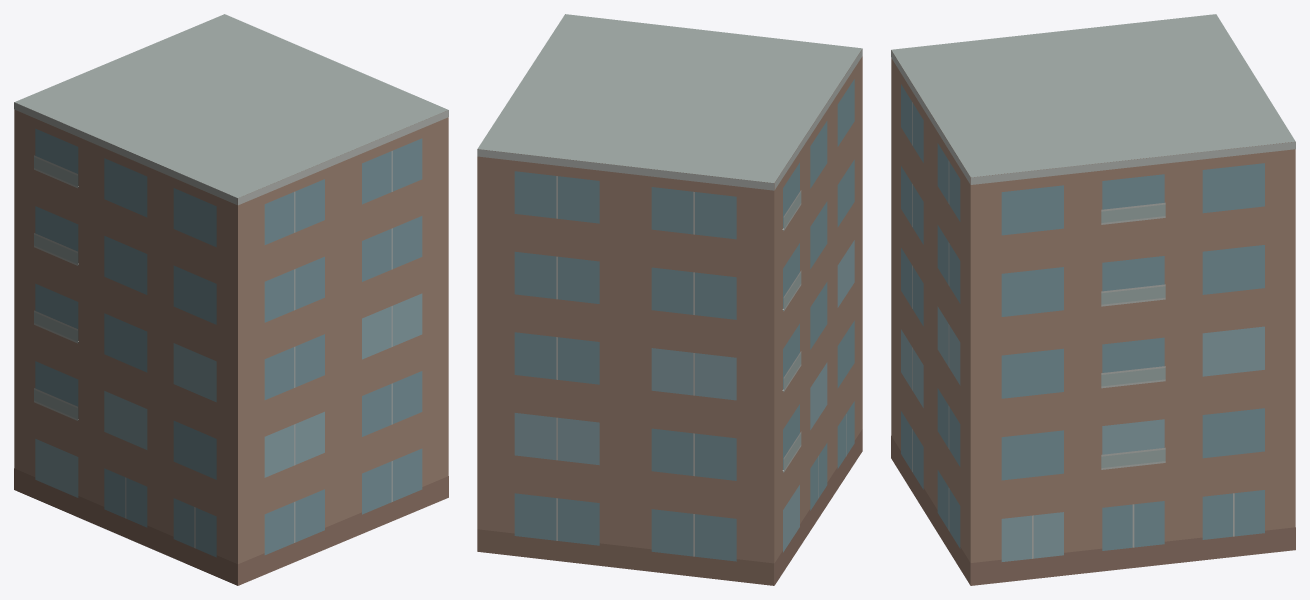
File: survey-upis-32653516.glb
3 views of the same model, side by side, from view 1: azimuth 30°, elevation 25°; view 2: azimuth 150°, elevation 25°; view 3: azimuth 270°, elevation 25° (orthographic). The views are drawn at different scales.
Visible parts, largest first — view 1: survey-upis-32653516.tmp; view 2: survey-upis-32653516.tmp; view 3: survey-upis-32653516.tmp.
Part boxes in pixels (left/top/right/bottom): survey-upis-32653516.tmp: left=14, top=14, right=448, bottom=585; survey-upis-32653516.tmp: left=477, top=14, right=862, bottom=585; survey-upis-32653516.tmp: left=891, top=14, right=1295, bottom=585.
Bounding box in the file's own units: 11.25 × 13.1 × 11.77.
